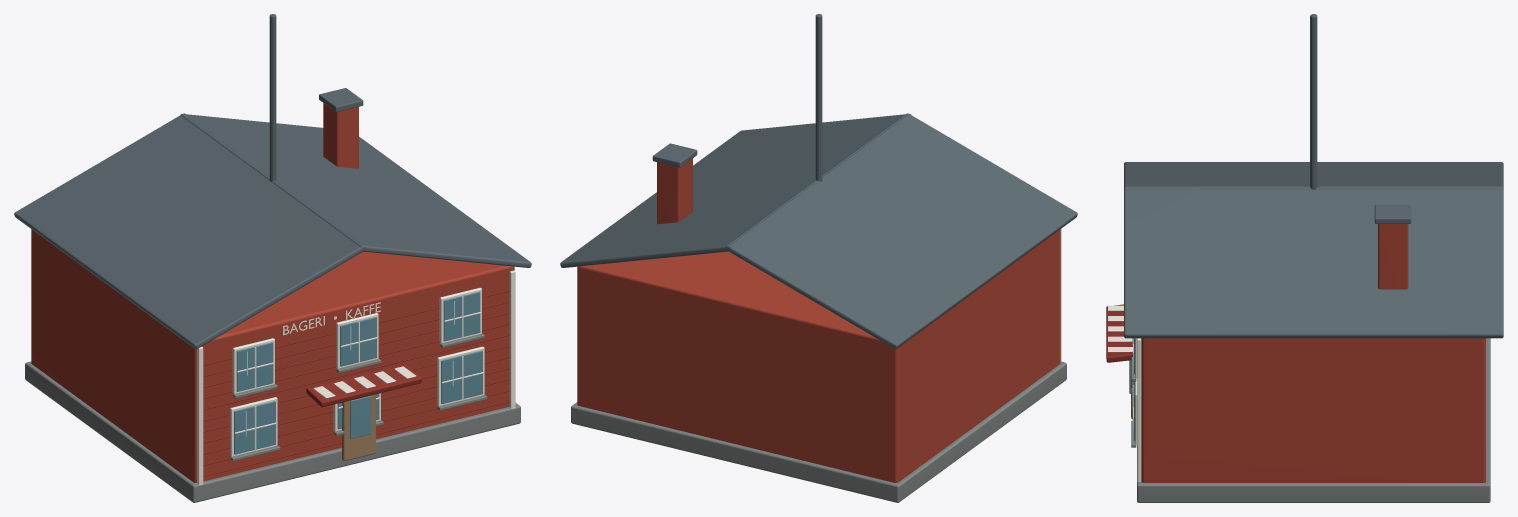
The model's file is bageri.glb.
3 renders of one model, left to right at view 1: azimuth 30°, elevation 25°; view 2: azimuth 150°, elevation 25°; view 3: azimuth 270°, elevation 25°, orthographic. The views are drawn at different scales.
Parts seen in each view (by area): view 1: Timber house shell, Left pitched roof, Right pitched roof, Stone foundation, Chimney stack, Bakery awning, Insulated glazing.004, Insulated glazing, Insulated glazing.001, Insulated glazing.005, Insulated glazing.003, Ridge cap (+10 smaller); view 2: Timber house shell, Left pitched roof, Right pitched roof, Stone foundation, Chimney stack, Ridge cap, Chimney cap; view 3: Right pitched roof, Timber house shell, Left pitched roof, Stone foundation, Chimney stack, Ridge cap, Bakery awning, Chimney cap, White corner board.001.
Part boxes in pixels (box(x1,y1,x2,y2)): Timber house shell: box(31, 229, 514, 482); Left pitched roof: box(14, 113, 365, 349); Right pitched roof: box(180, 114, 531, 267); Stone foundation: box(25, 361, 520, 502); Chimney stack: box(323, 103, 358, 168); Bakery awning: box(306, 363, 421, 407); Insulated glazing.004: box(441, 350, 482, 403); Insulated glazing: box(234, 401, 275, 454); Insulated glazing.001: box(236, 342, 273, 391); Insulated glazing.005: box(443, 291, 480, 341); Insulated glazing.003: box(340, 317, 376, 366); Ridge cap: box(269, 14, 276, 181); Timber house shell: box(577, 229, 1060, 482); Left pitched roof: box(726, 113, 1077, 349); Right pitched roof: box(560, 114, 911, 267); Stone foundation: box(571, 361, 1066, 502); Chimney stack: box(657, 158, 692, 224); Ridge cap: box(815, 14, 822, 181); Chimney cap: box(652, 143, 697, 167); Right pitched roof: box(1124, 186, 1503, 338); Timber house shell: box(1141, 338, 1485, 482); Left pitched roof: box(1124, 162, 1503, 189); Stone foundation: box(1137, 338, 1490, 502); Chimney stack: box(1378, 224, 1408, 289); Ridge cap: box(1310, 14, 1317, 189); Bakery awning: box(1106, 304, 1132, 362); Chimney cap: box(1374, 204, 1411, 223); White corner board.001: box(1137, 338, 1140, 482).
Bounding box in the file's own units: 13.37 × 14.64 × 13.03.
